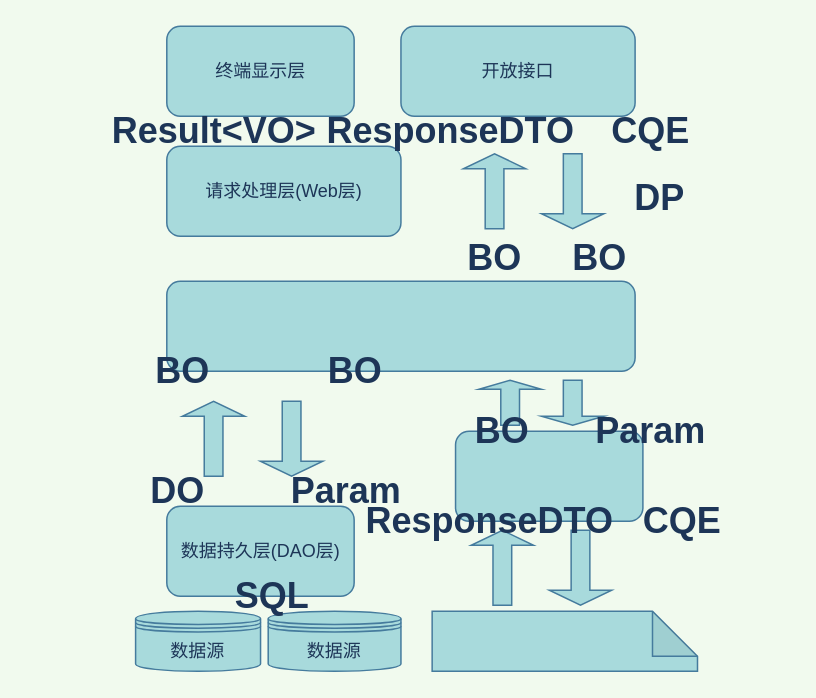
Image size: 816x698. Some labels were removed from this diagram. The shapes that lost their labels are listed below. From the top down, each one's box as (x1, y1, x2, y2) in pixels, then its label:
(165, 280, 635, 371): 业务逻辑层(Service层)
(454, 430, 643, 521): Client(层)
(431, 610, 698, 671): 外部接口或第三方平台
